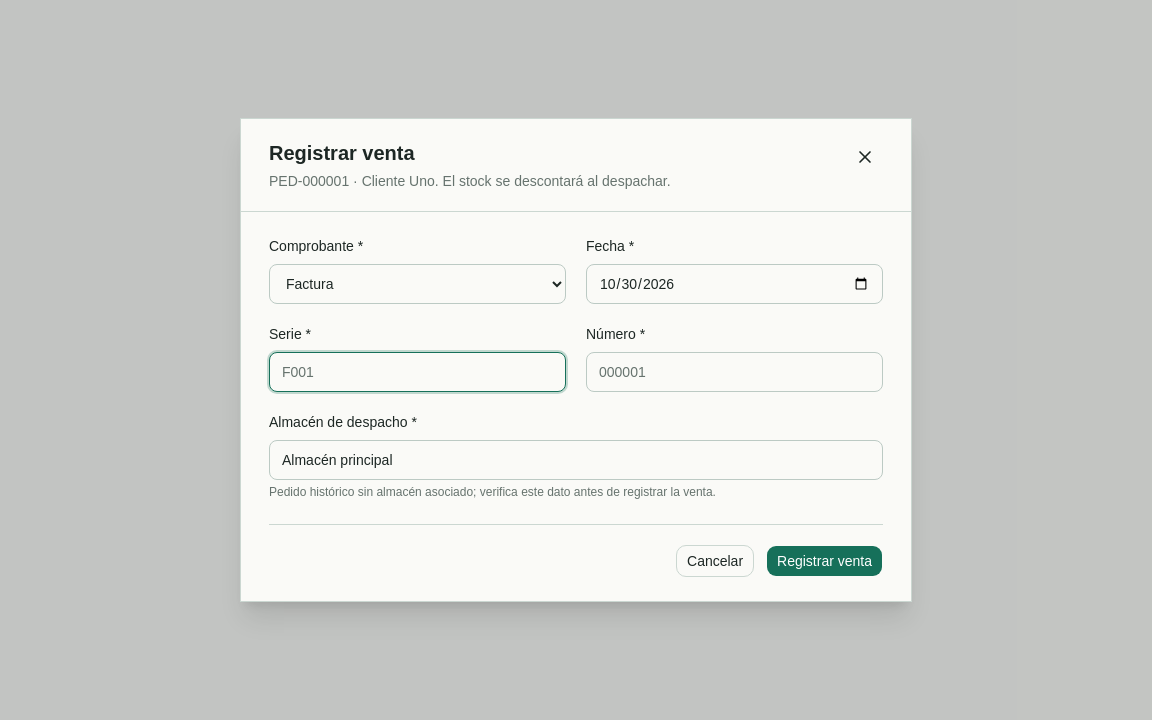
Test: DialogoRegistroVenta › muestra el error de la RPC y conserva abierto el formulario
Type "f001" into the field labelled "Serie *" at (418,372), box [269,352,566,392]
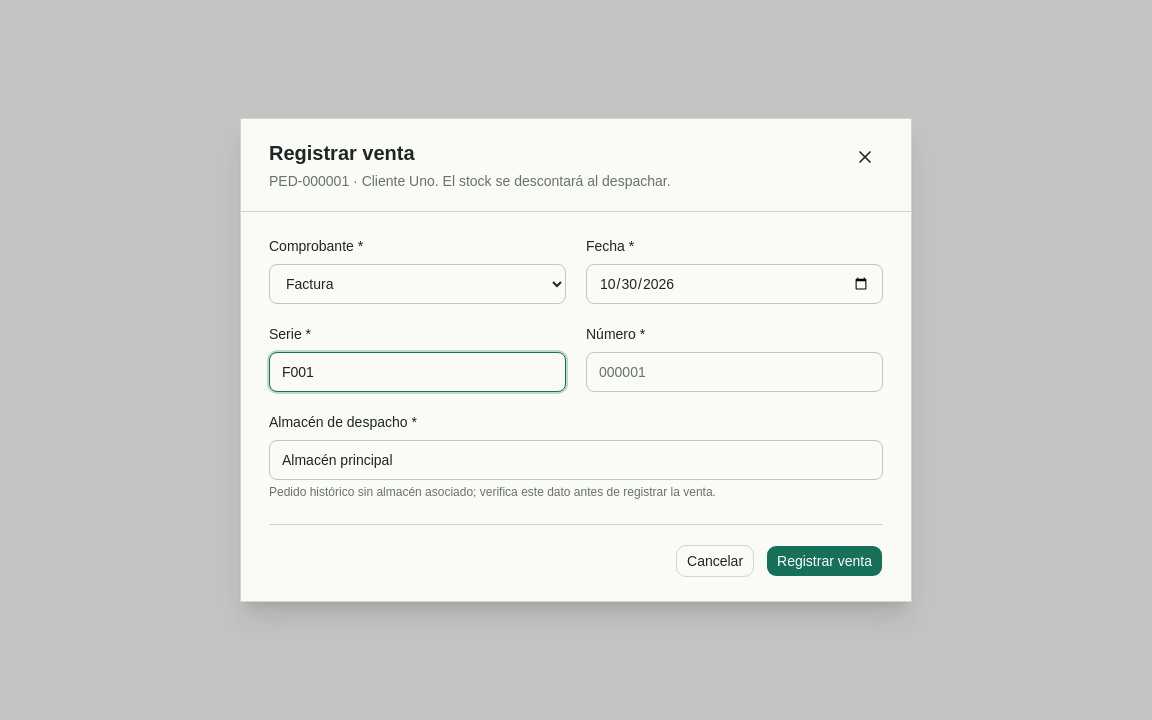
Type "1" into the field labelled "Número *" at (734,372), box [586,352,883,392]
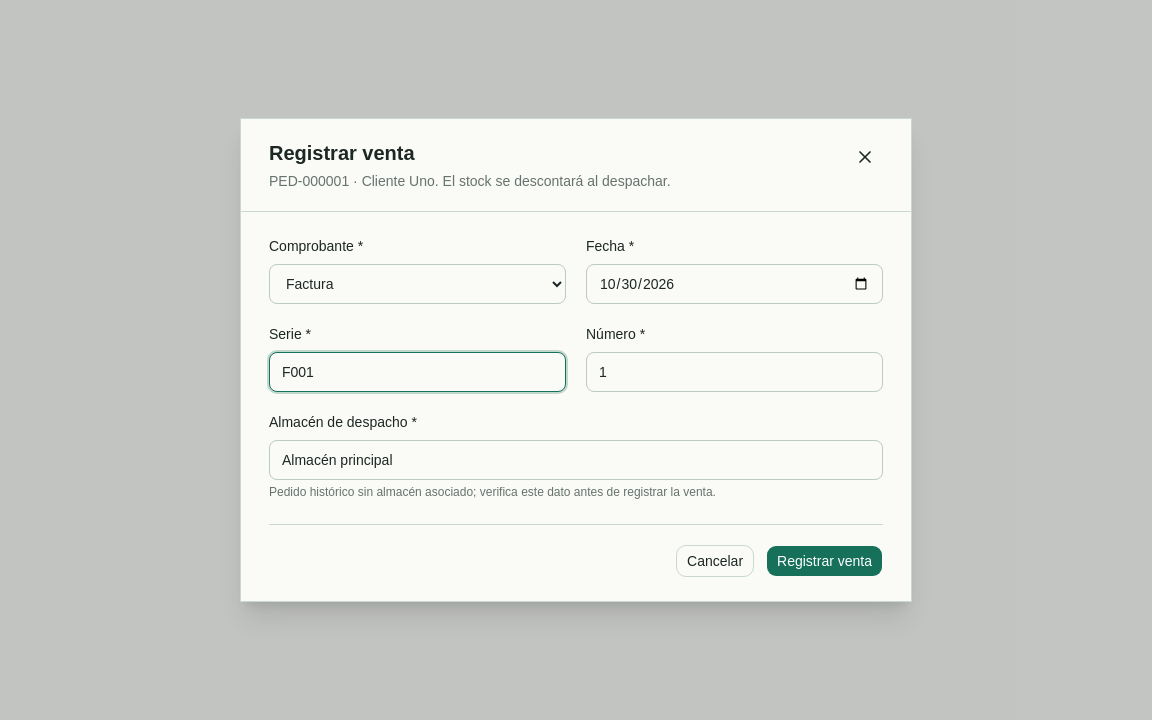
Click the button "Registrar venta" at (825,561), box [766,545,883,577]
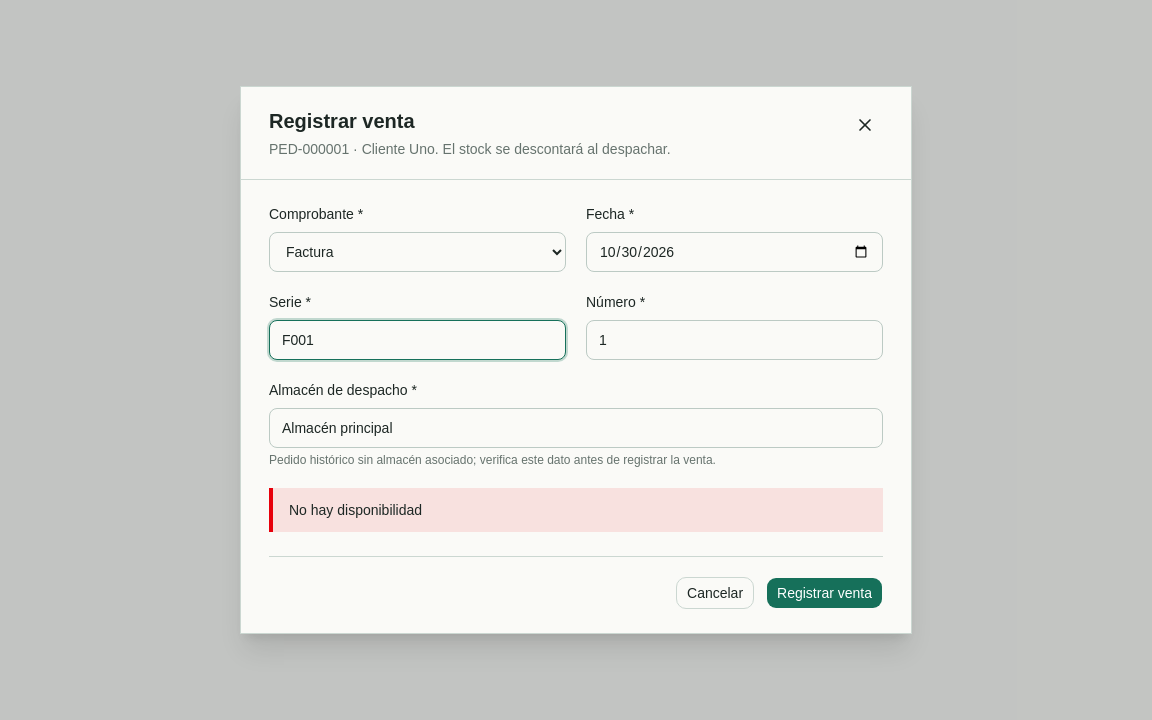
Now the message reads "No hay disponibilidad", box [289,502,422,518]
